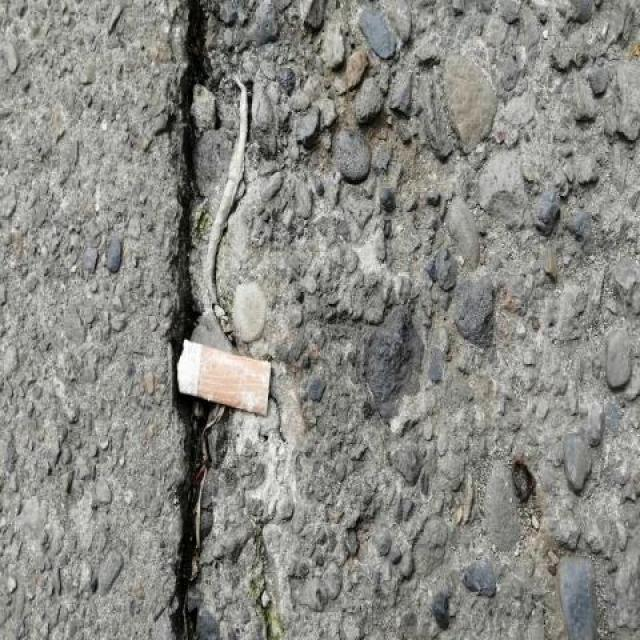non-organic waste: (169, 335, 278, 420)
